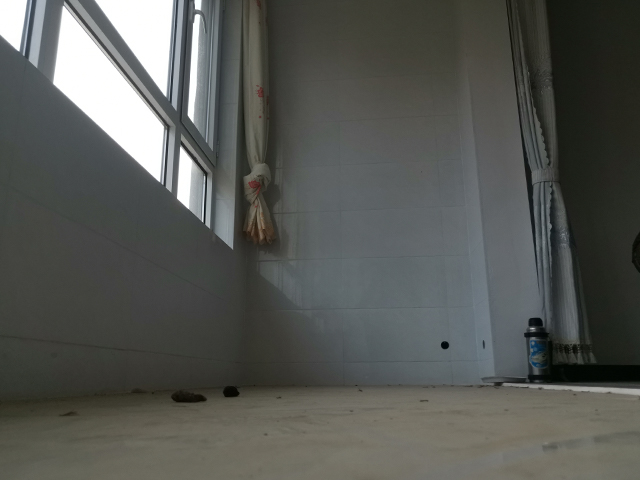curtain: (504, 1, 599, 367)
feces: (169, 388, 208, 404), (221, 384, 243, 398)
